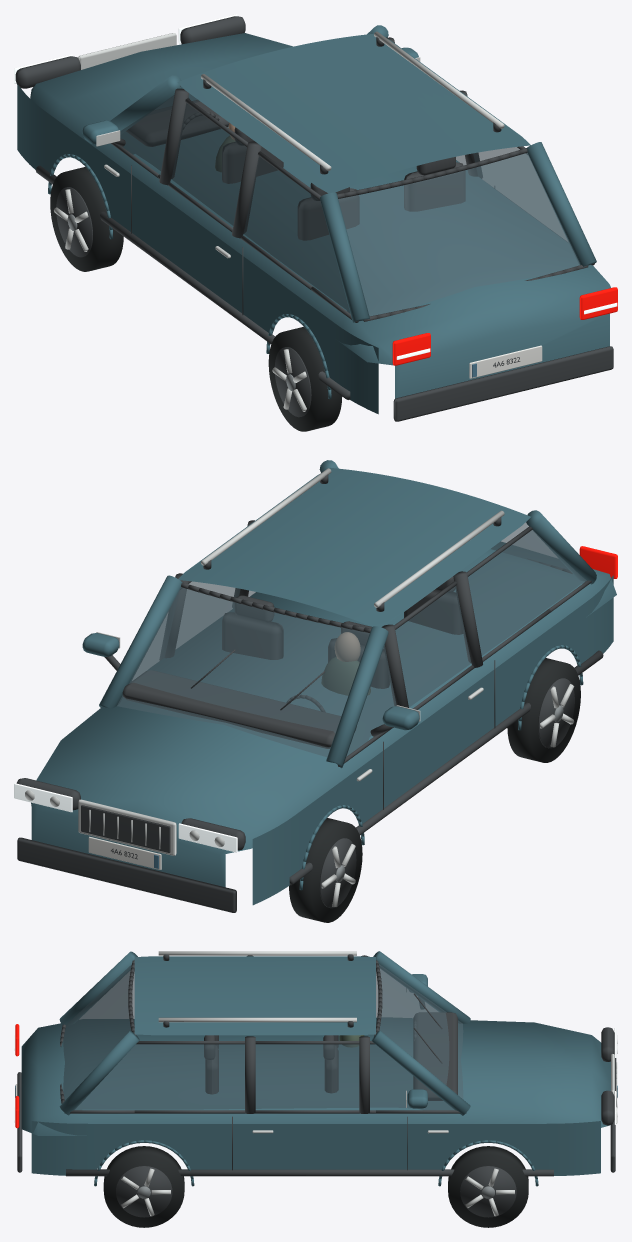
File: car.glb
The picture shows the model from 3 angles, top to bottom: view 1: azimuth 30°, elevation 25°; view 2: azimuth 150°, elevation 25°; view 3: azimuth 270°, elevation 25°; orthographic projection. The views are drawn at different scales.
Parts seen in each view (by area): view 1: Vehicle_wagon_Metallic car body paint, Vehicle_wagon_Car clear tinted glass, Vehicle_wagon_Chassis graphite, Vehicle_wagon_Chrome trim, wheel_RL_Window seals and rubber, wheel_FL_Window seals and rubber, Vehicle_wagon_Rear brake lamps, wheel_FL_Chassis graphite, wheel_RL_Chassis graphite, Vehicle_wagon_Registration plate white, Vehicle_wagon_Headlamp optical lens, wheel_FL_Chrome trim (+1 smaller); view 2: Vehicle_wagon_Metallic car body paint, Vehicle_wagon_Car clear tinted glass, Vehicle_wagon_Chassis graphite, Vehicle_wagon_Chrome trim, wheel_FL_Window seals and rubber, wheel_RL_Window seals and rubber, Vehicle_wagon_Headlamp optical lens, wheel_FL_Chassis graphite, wheel_RL_Chassis graphite, Vehicle_wagon_Registration plate white, Vehicle_wagon_Coat fabric, Vehicle_wagon_Rear brake lamps (+1 smaller); view 3: Vehicle_wagon_Metallic car body paint, Vehicle_wagon_Car clear tinted glass, Vehicle_wagon_Chassis graphite, wheel_RR_Window seals and rubber, wheel_FR_Window seals and rubber, Vehicle_wagon_Chrome trim, wheel_FR_Chassis graphite, wheel_RR_Chassis graphite, wheel_RR_Chrome trim, wheel_FR_Chrome trim.
Part boxes in pixels (x1,y1,x2,y2): Vehicle_wagon_Metallic car body paint: (17,25,610,414); Vehicle_wagon_Car clear tinted glass: (120,88,579,316); Vehicle_wagon_Chassis graphite: (15,16,613,421); Vehicle_wagon_Chrome trim: (78,31,504,258); wheel_RL_Window seals and rubber: (268,326,342,431); wheel_FL_Window seals and rubber: (50,167,123,271); Vehicle_wagon_Rear brake lamps: (392,287,617,365); wheel_FL_Chassis graphite: (56,187,92,257); wheel_RL_Chassis graphite: (274,347,311,417); Vehicle_wagon_Registration plate white: (469,345,542,378); Vehicle_wagon_Headlamp optical lens: (14,14,617,359); wheel_FL_Chrome trim: (54,189,88,251); Vehicle_wagon_Metallic car body paint: (31,460,616,905); Vehicle_wagon_Car clear tinted glass: (117,522,586,756); Vehicle_wagon_Chassis graphite: (16,474,603,912); Vehicle_wagon_Chrome trim: (25,468,504,855); wheel_FL_Window seals and rubber: (289,818,362,922); wheel_RL_Window seals and rubber: (507,658,580,762); Vehicle_wagon_Headlamp optical lens: (14,783,237,852); wheel_FL_Chassis graphite: (319,838,356,908); wheel_RL_Chassis graphite: (538,678,574,748); Vehicle_wagon_Registration plate white: (88,836,161,869); Vehicle_wagon_Coat fabric: (321,657,370,695); Vehicle_wagon_Rear brake lamps: (579,546,617,578); Vehicle_wagon_Metallic car body paint: (21,951,610,1186); Vehicle_wagon_Car clear tinted glass: (63,964,463,1110); Vehicle_wagon_Chassis graphite: (17,954,616,1176); wheel_RR_Window seals and rubber: (103,1146,184,1227); wheel_FR_Window seals and rubber: (448,1146,528,1227); Vehicle_wagon_Chrome trim: (158,951,617,1133); wheel_FR_Chassis graphite: (460,1166,516,1217); wheel_RR_Chassis graphite: (116,1166,172,1217); wheel_RR_Chrome trim: (121,1168,170,1216); wheel_FR_Chrome trim: (465,1168,514,1216).
Bounding box in the file's own units: 2.36 × 1.68 × 4.76.
